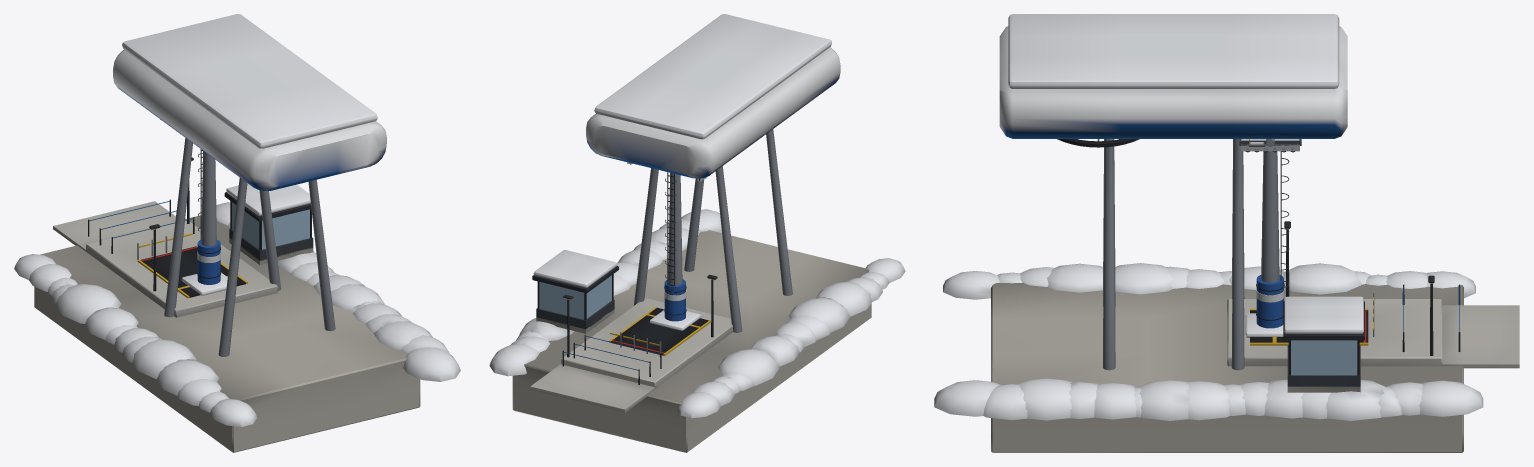
File: lift.glb
3 renders of one model, left to right at view 1: azimuth 30°, elevation 25°; view 2: azimuth 150°, elevation 25°; view 3: azimuth 270°, elevation 25°, orthographic. The views are drawn at different scales.
Parts seen in each view (by area): view 1: liftTerminal, liftTower, liftGlass; view 2: liftTerminal, liftTower, liftGlass; view 3: liftTerminal, liftTower, liftGlass.
Part boxes in pixels (x1,y1,x2,y2): liftTerminal: [14, 14, 460, 452]; liftTower: [160, 119, 227, 295]; liftGlass: [232, 202, 309, 249]; liftTerminal: [489, 14, 905, 452]; liftTower: [627, 162, 709, 330]; liftGlass: [539, 275, 611, 319]; liftTerminal: [934, 14, 1519, 452]; liftTower: [1239, 139, 1301, 337]; liftGlass: [1291, 340, 1357, 375].
Bounding box in the file's own units: 16.22 × 18.1 × 27.24.
